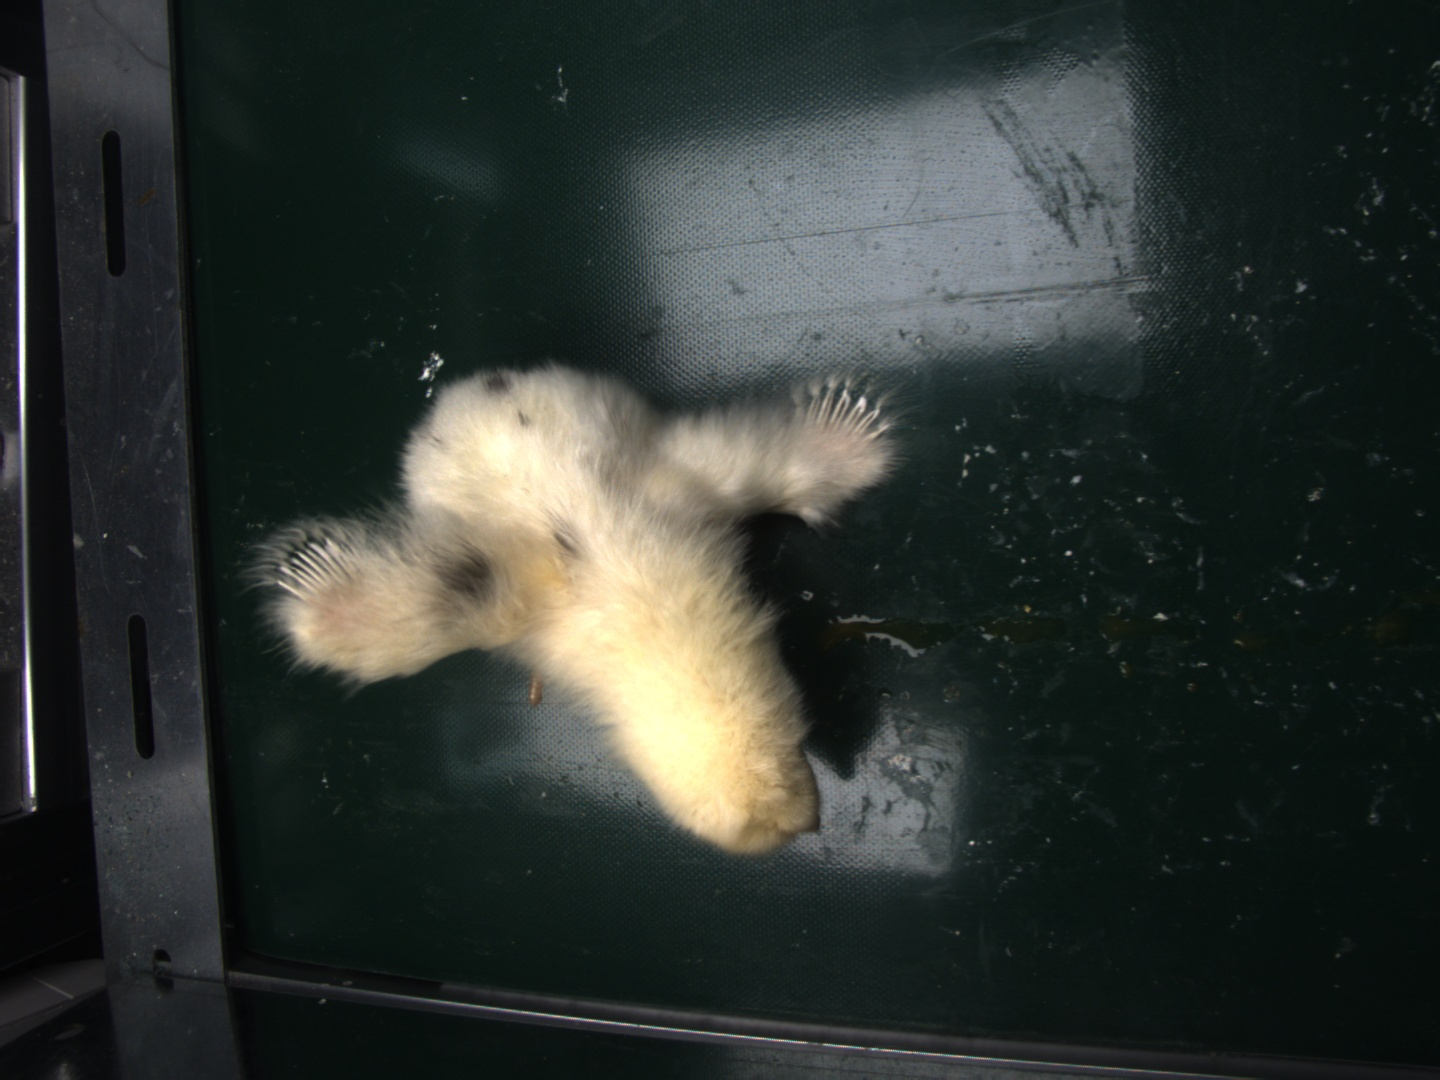male: (274, 535, 353, 601), (807, 387, 888, 442)
